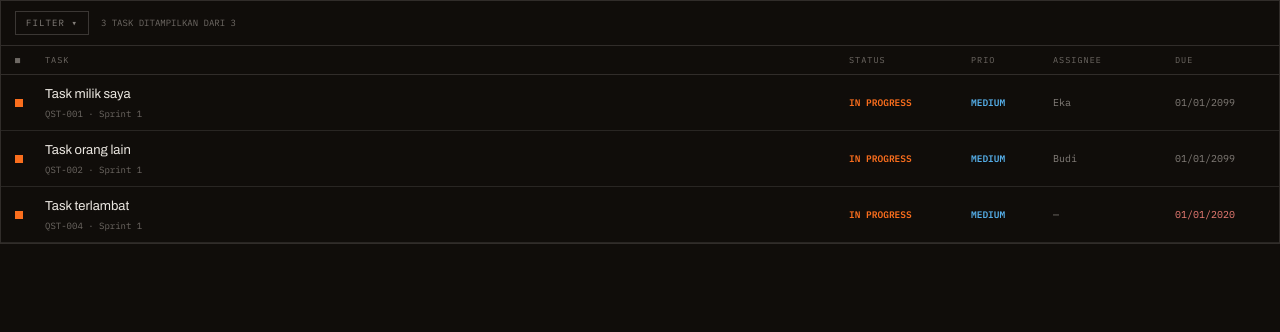
Test case: TaskListView › filter due Terlambat menyaring baris, RESET mengembalikan semua
The width and height of the screenshot is (1280, 332).
Click the button "FILTER ▾" at (52, 23), box [15,11,89,34]
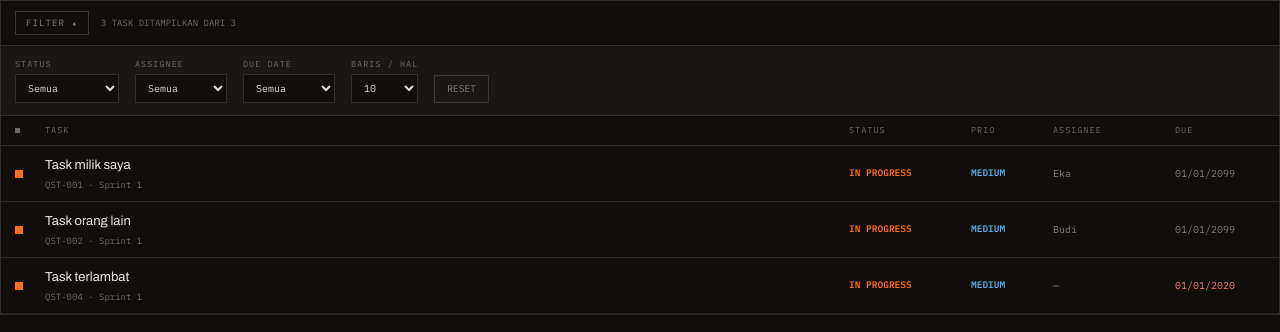
Select "Terlambat" in the dropdown labelled "DUE DATE" at (289, 89), box [243,74,335,103]
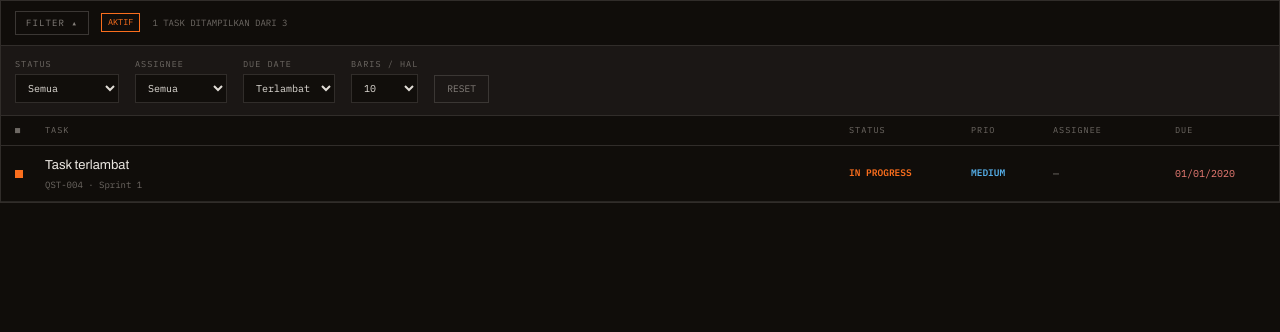
Result: the text "1 TASK DITAMPILKAN DARI 3" is shown at [152,16,287,30]
Result: the text "AKTIF" is shown at [101,13,140,32]
Result: the button "Task orang lain" is gone
Click the button "RESET" at (462, 89), box [434,75,489,103]
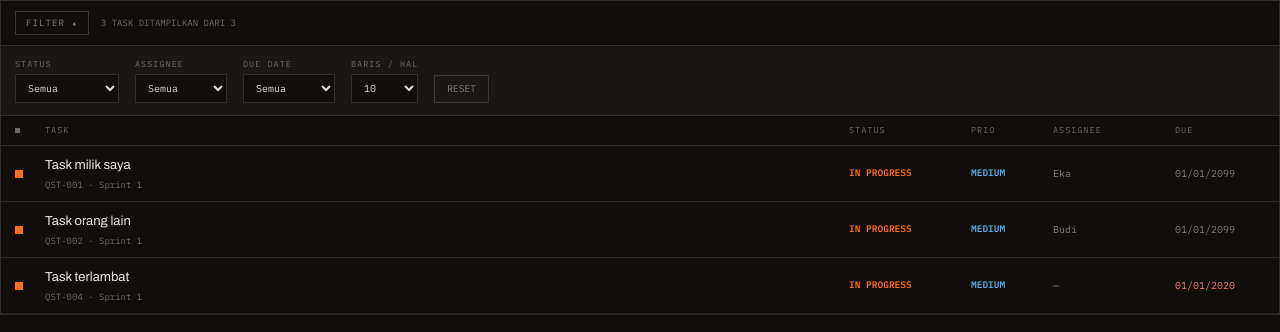
Result: the text "3 TASK DITAMPILKAN DARI 3" is shown at [101,16,236,30]
